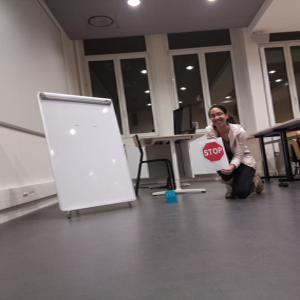stop: (201, 141, 224, 162)
